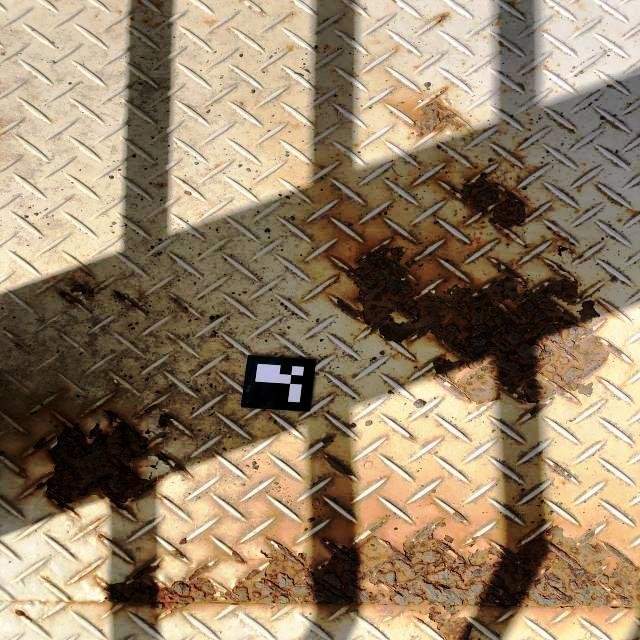Corrosion: (106, 519, 640, 640), (329, 238, 634, 418), (19, 408, 191, 517), (439, 173, 532, 227), (405, 92, 472, 134), (435, 373, 470, 399), (129, 562, 157, 583), (115, 291, 143, 311), (328, 457, 355, 476), (156, 410, 181, 430), (59, 288, 83, 305), (134, 401, 158, 418), (69, 283, 96, 296), (169, 296, 189, 311), (553, 463, 573, 478), (77, 263, 95, 278), (228, 550, 248, 563), (369, 520, 385, 534), (555, 245, 571, 258), (170, 549, 185, 559), (453, 512, 465, 522), (321, 435, 334, 444), (96, 532, 109, 540), (406, 433, 416, 442), (437, 14, 447, 23)
